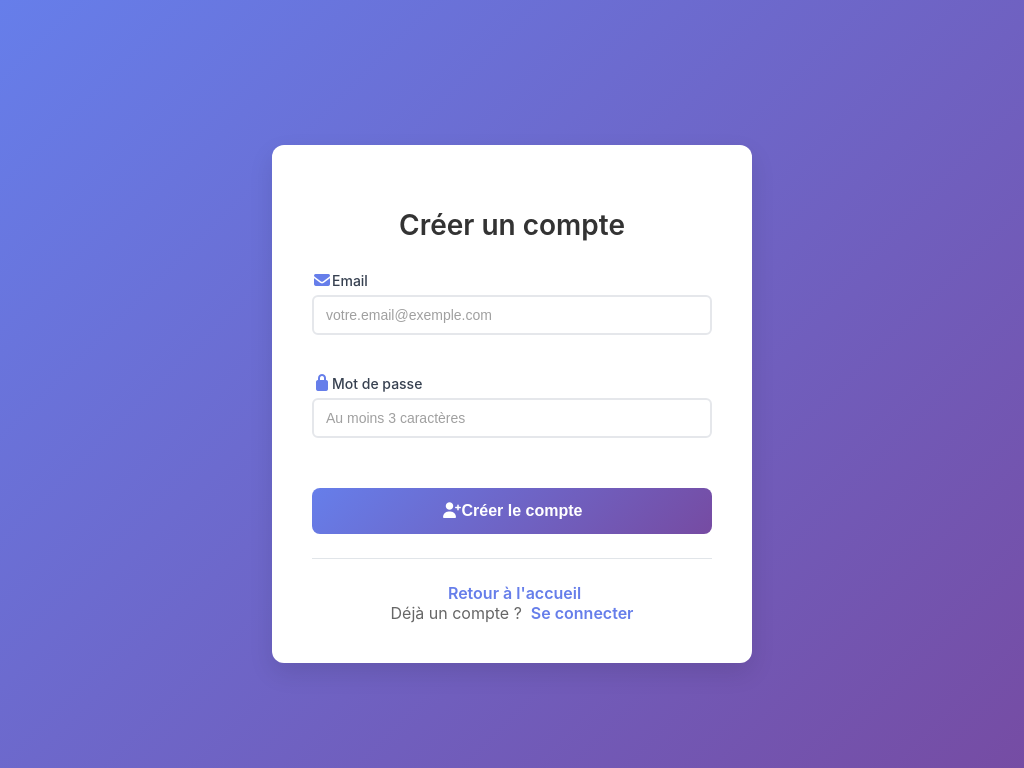
Scenario: Register Component › shows success modal on successful registration
Type "test@example.com" into the field labelled "Email" at (512,315), box [312,295,712,335]
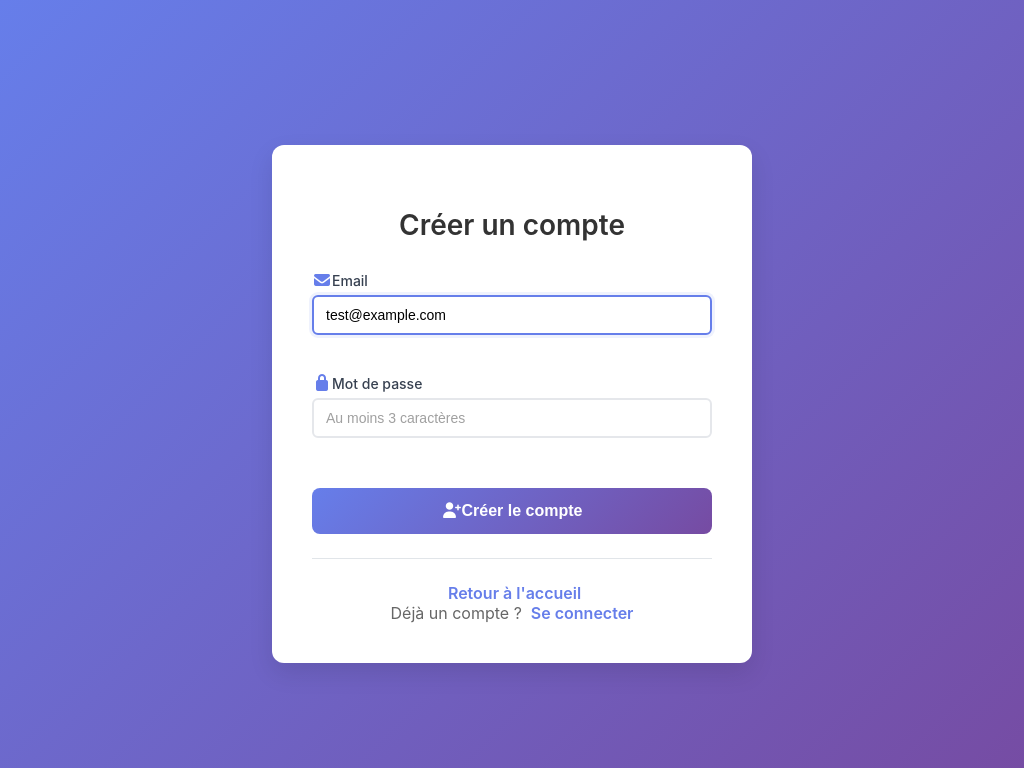
Type "password123" into the password field labelled "Mot de passe" at (512,418), box [312,398,712,438]
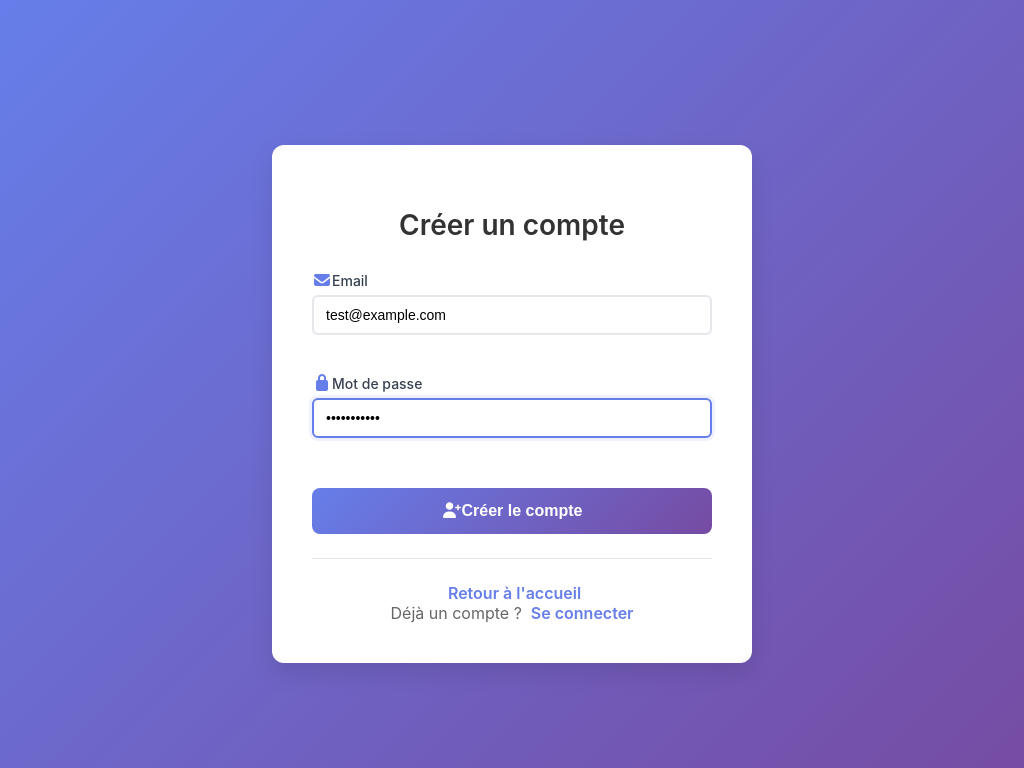
Click the button "Créer le compte" at (512,511), box [312,488,712,534]
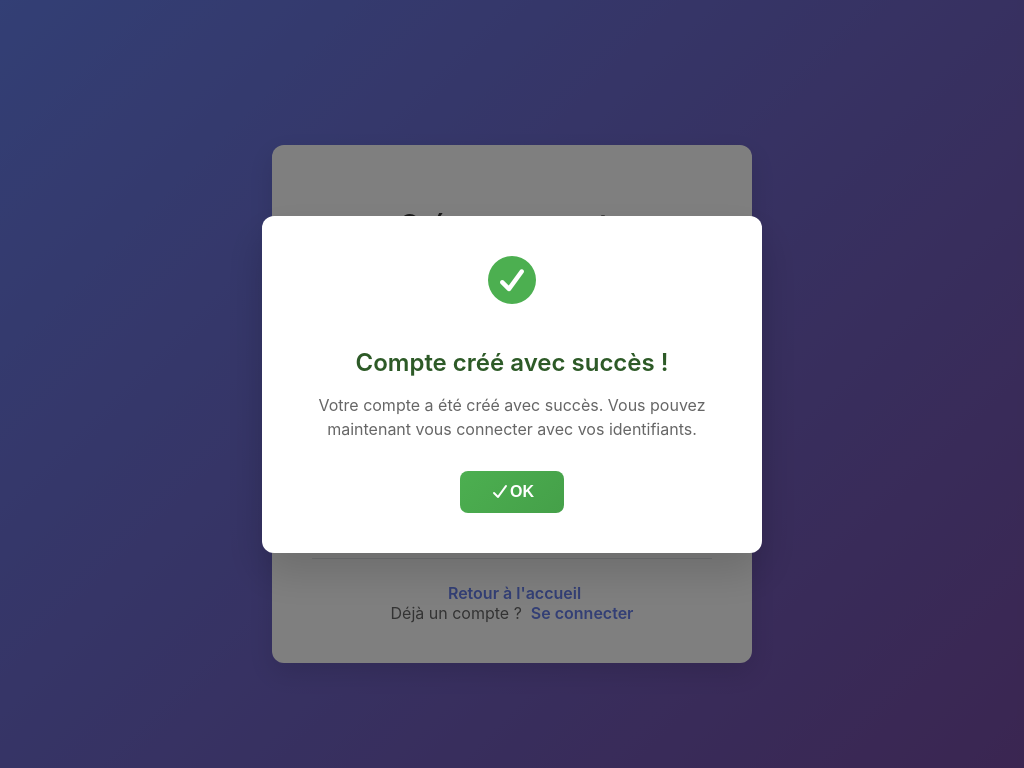
Expected: the heading "Compte créé avec succès !" is shown, [356,348,668,376]
Expected: the text "Votre compte a été créé avec succès" is shown, [318,394,706,438]
